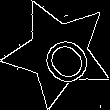O_NW: (25, 19, 91, 86)
